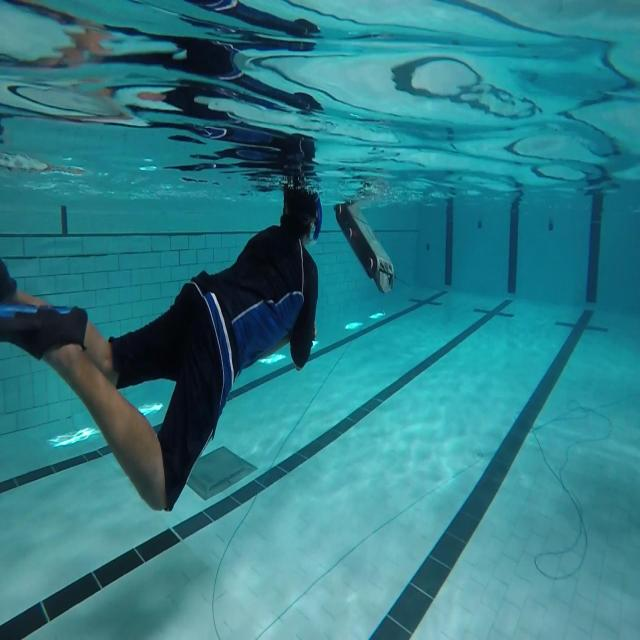human: (0, 177, 322, 512)
